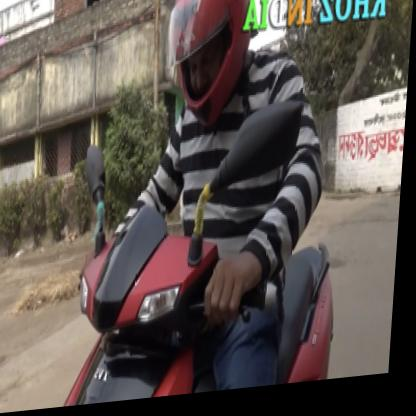With Helmet: (161, 0, 251, 138)
